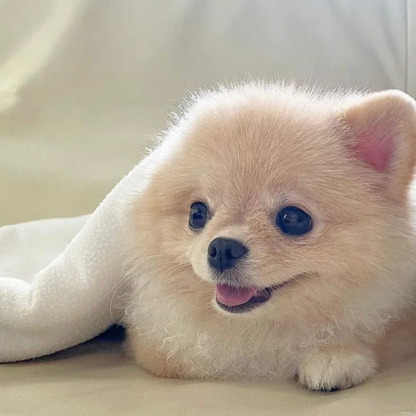Pomeranian: (119, 71, 407, 385)
